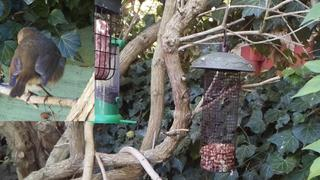robin: (8, 27, 68, 106)
